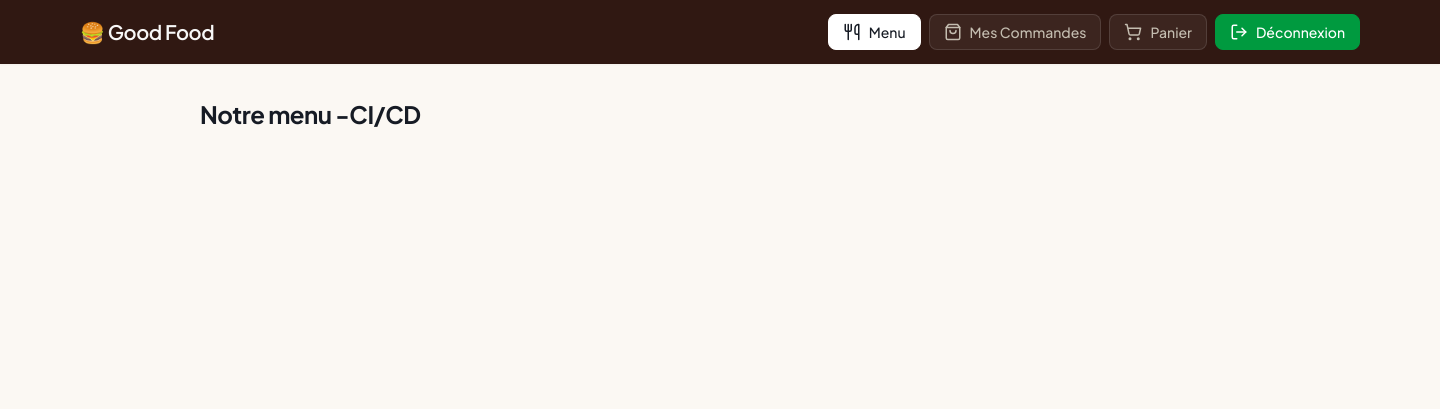
Scenario: CustomerDashboard Component › switches to orders view
The width and height of the screenshot is (1440, 409).
Expected: the heading "Notre menu -CI/CD" is shown, [200,99,421,129]
Click the button "Mes Commandes" at (1015, 32), box [929,14,1102,50]
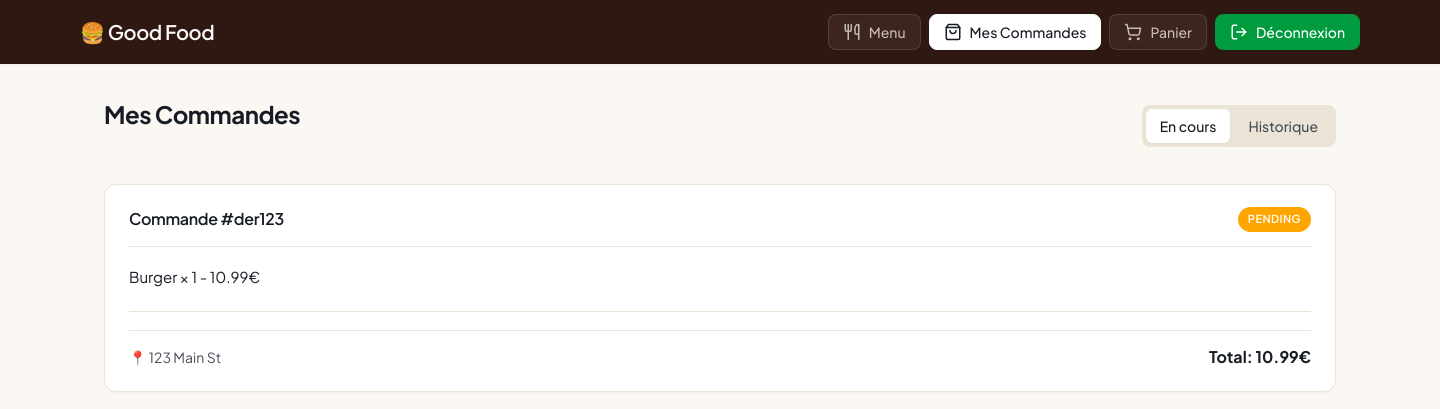
Expected: the heading "Commande #der123" is shown, [129,207,284,231]
Expected: the text "📍 123 Main St" is shown, [129,348,221,366]
